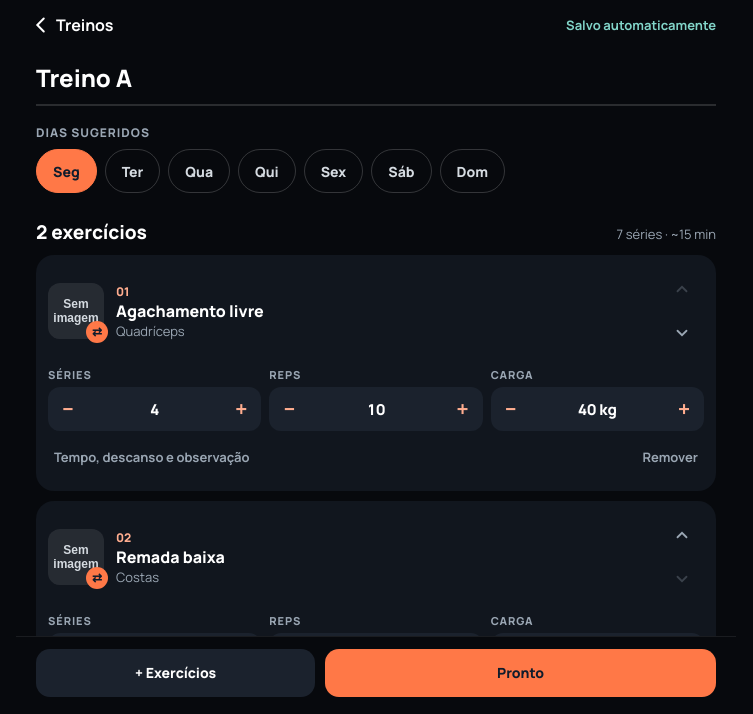
it: WorkoutEditor (FIT-146) › mostra o erro do servidor sem perder o que foi feito
Step 1. Click the button named "Aumentar séries" → (241,409), box [221,387,261,431]
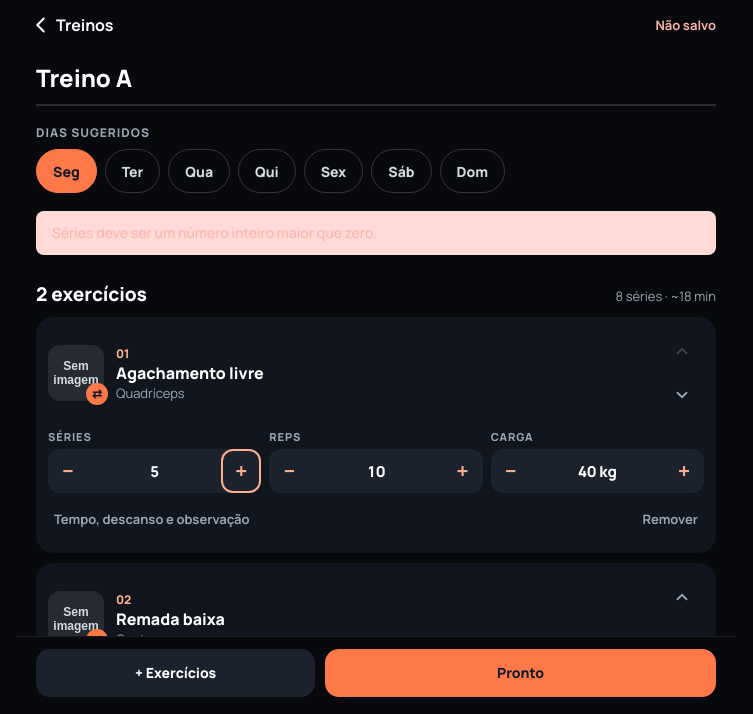
Expected: the message "Séries deve ser um número inteiro maior que zero." is shown, [36,211,716,255]
Expected: the text "Não salvo" is shown, [655,16,716,34]
Expected: the text "5" is shown, [150,460,159,482]
